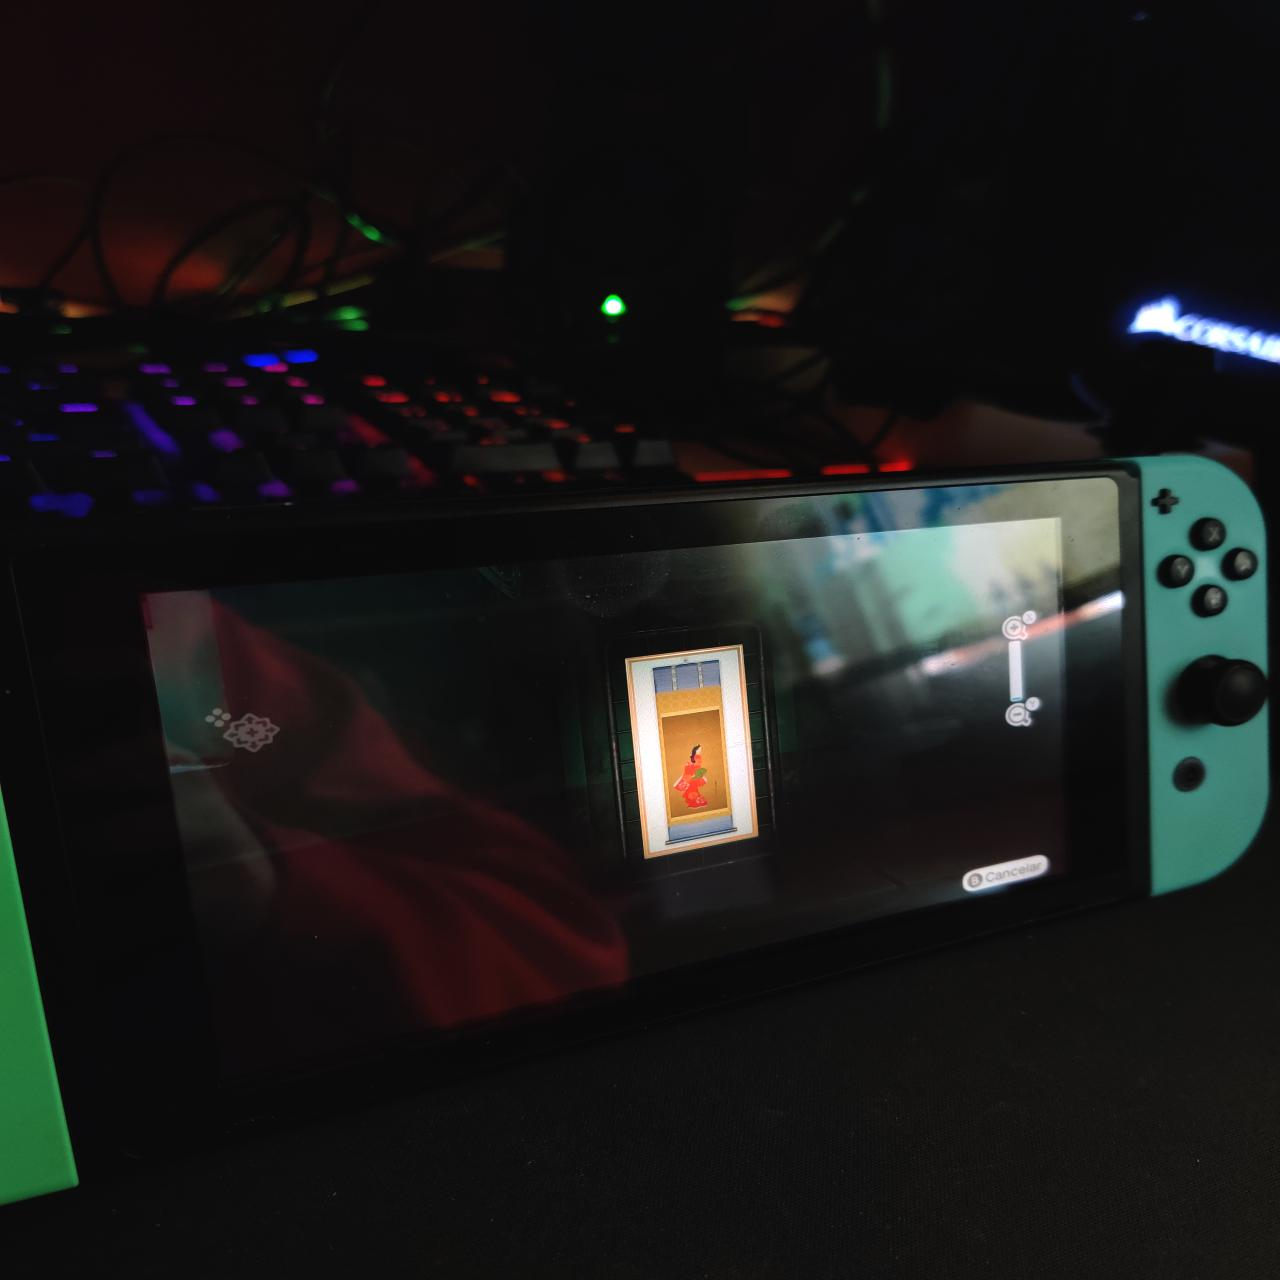Mikaeri: (663, 704, 728, 819)
